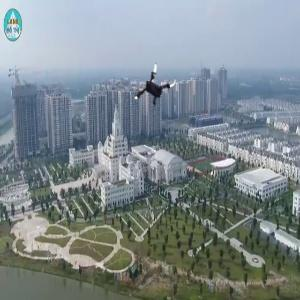drone: (128, 63, 180, 115)
